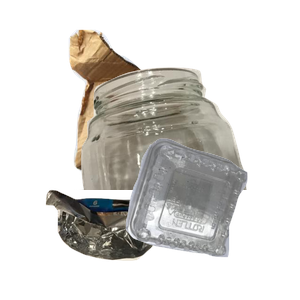cardboard: (66, 27, 242, 197)
glass: (74, 65, 300, 245)
plastic: (123, 136, 300, 300)
trash: (43, 187, 234, 300)
